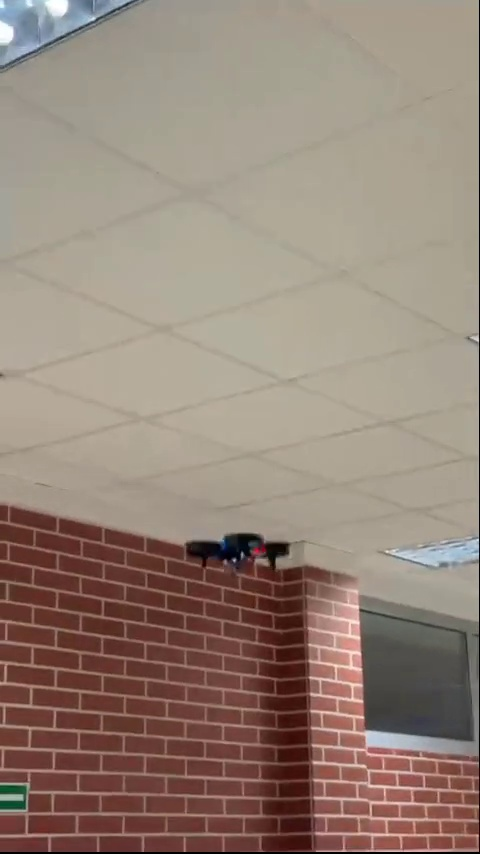drone: (180, 529, 287, 584)
